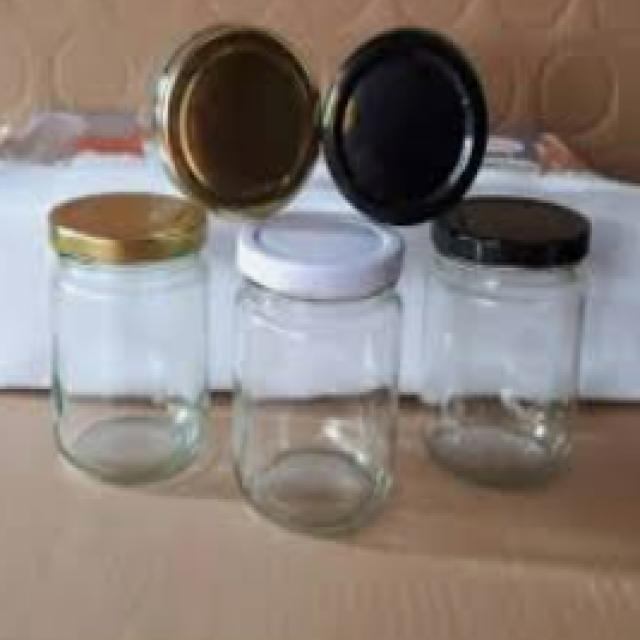ToplesKaca: (41, 18, 600, 554), (226, 208, 396, 536), (422, 188, 586, 491), (45, 192, 211, 477)
